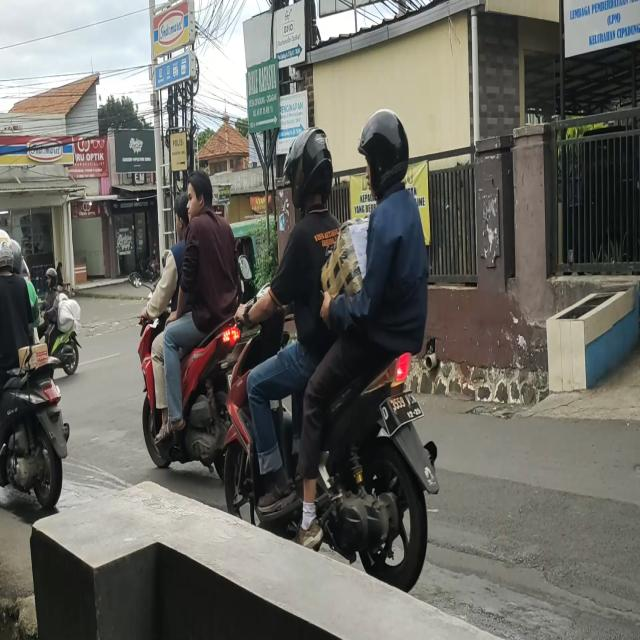helmet: (359, 110, 410, 194), (284, 129, 333, 209), (0, 225, 20, 274)
no-helmet: (184, 170, 214, 224), (172, 196, 192, 232)
